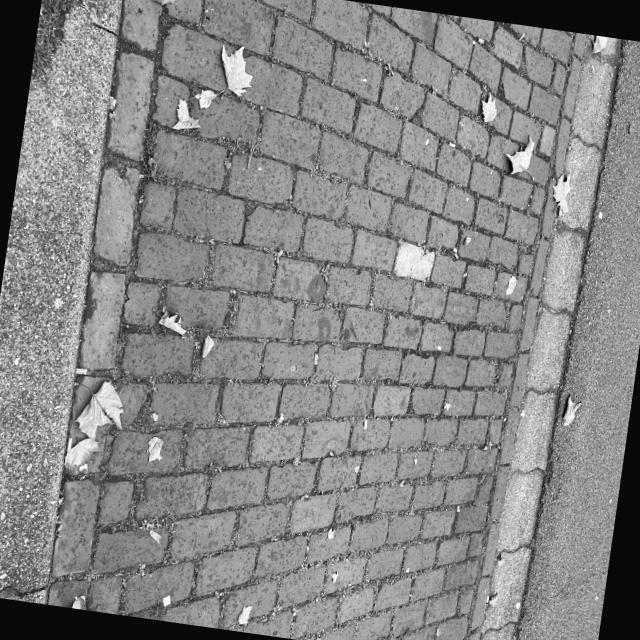leaves: (286, 108, 325, 145), (260, 159, 296, 199), (174, 546, 206, 588), (451, 84, 489, 112), (364, 610, 384, 640), (204, 612, 232, 630), (190, 76, 206, 103), (224, 224, 246, 241), (457, 635, 480, 640)
pavement: (192, 0, 640, 150)
weedling: (510, 146, 639, 352)
